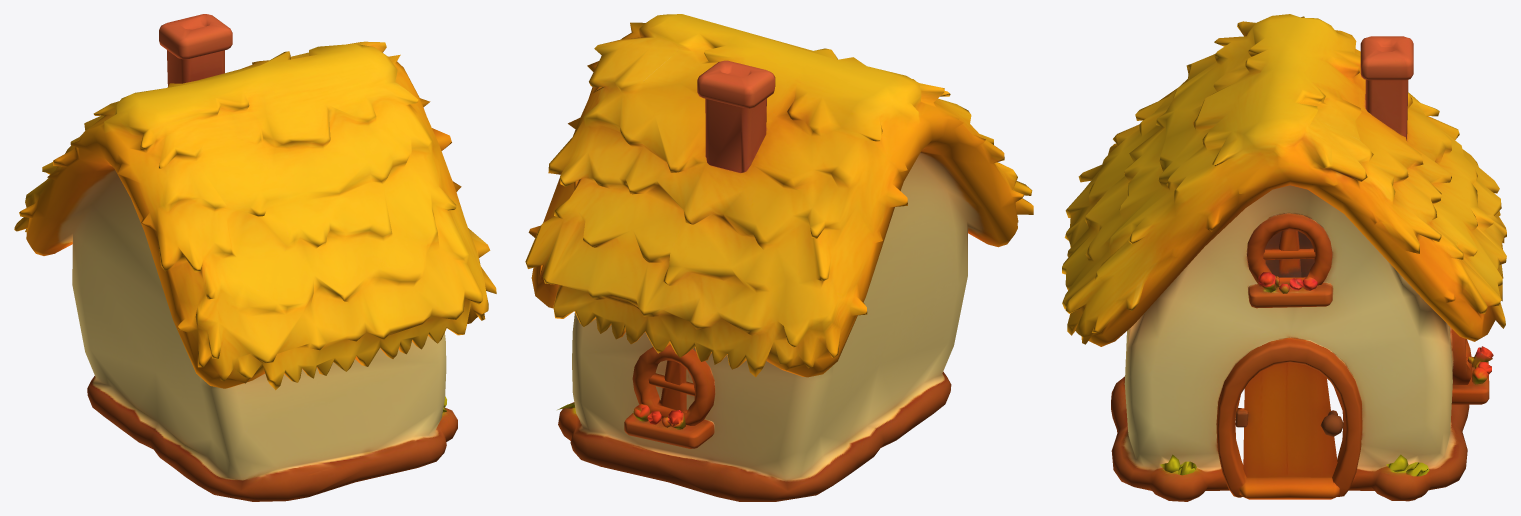
Rendered from prop-cottage.glb.
The picture shows the model from 3 angles, left to right: view 1: azimuth 30°, elevation 25°; view 2: azimuth 150°, elevation 25°; view 3: azimuth 270°, elevation 25°; orthographic projection. The views are drawn at different scales.
Visible parts, largest first — view 1: tripo_node_57290af3-1c6e-4c07-92e6-88aa22726a57; view 2: tripo_node_57290af3-1c6e-4c07-92e6-88aa22726a57; view 3: tripo_node_57290af3-1c6e-4c07-92e6-88aa22726a57.
Boxes of the visible parts, x1,y1,x2,y2 form: tripo_node_57290af3-1c6e-4c07-92e6-88aa22726a57: (14,14,496,501); tripo_node_57290af3-1c6e-4c07-92e6-88aa22726a57: (525,14,1033,501); tripo_node_57290af3-1c6e-4c07-92e6-88aa22726a57: (1062,14,1506,501).
Bounding box in the file's own units: 0.8613 × 0.9512 × 0.998.
Materials: 1 (1 with a texture image).
